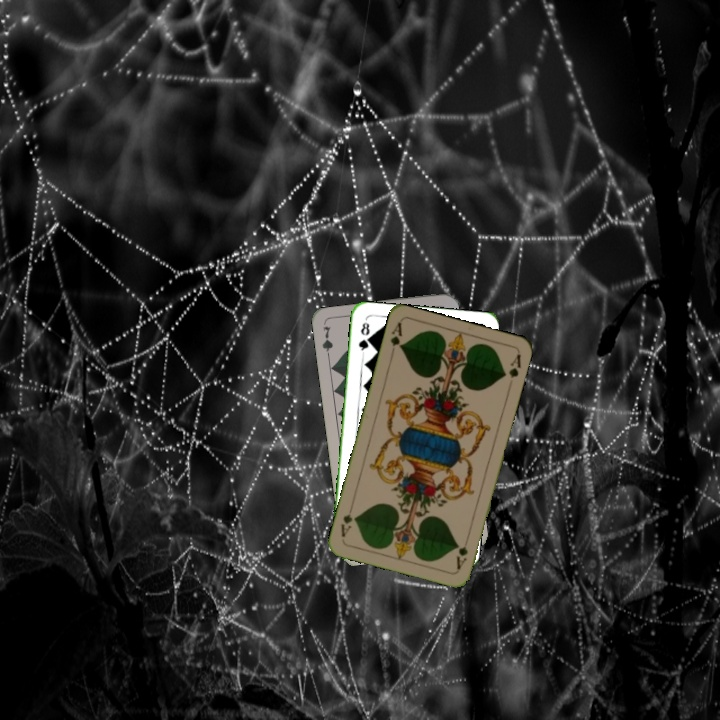G7: (318, 322, 335, 363)
G8: (355, 318, 372, 357)
GA: (452, 532, 472, 572), (386, 318, 405, 359)
